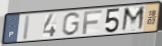4: (42, 13, 57, 39)
5: (103, 7, 122, 34)
F: (82, 9, 103, 36)
G: (60, 11, 82, 37)
I: (21, 14, 32, 41)
M: (120, 5, 147, 33)
